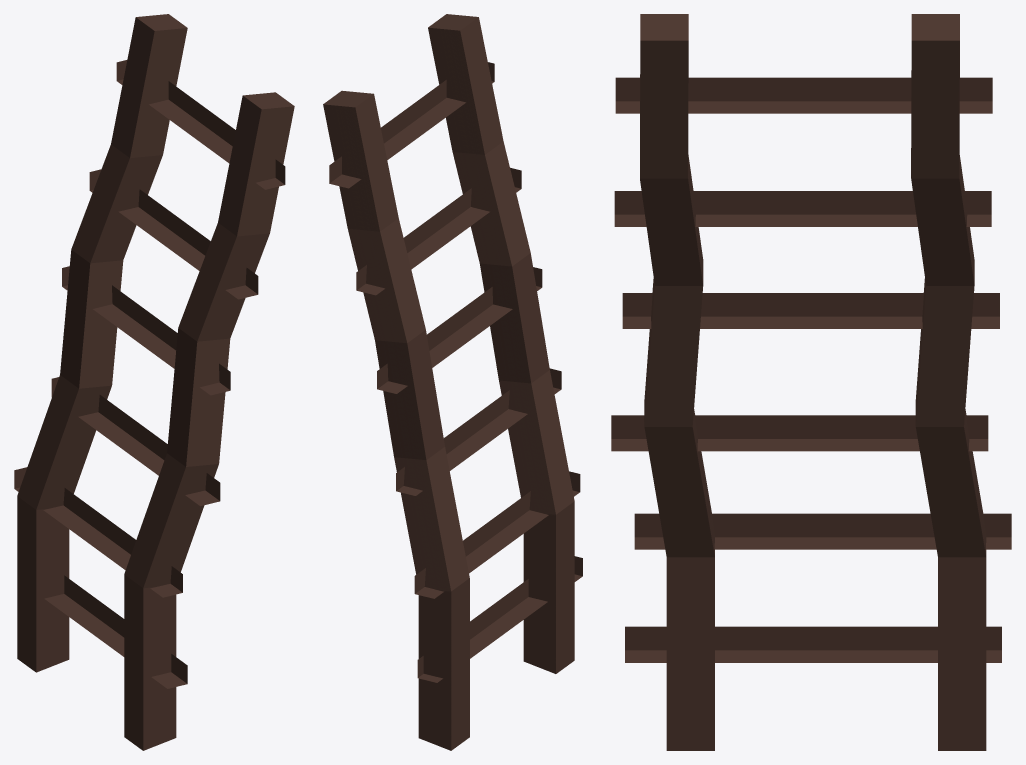
The model's file is Ladder_Onai.glb.
3 views of the same model, side by side, from view 1: azimuth 30°, elevation 25°; view 2: azimuth 150°, elevation 25°; view 3: azimuth 270°, elevation 25° (orthographic). The views are drawn at different scales.
Parts seen in each view (by area): view 1: Cube; view 2: Cube; view 3: Cube.
Part boxes in pixels (<box>): Cube: <box>14,14,294,750</box>; Cube: <box>323,14,582,750</box>; Cube: <box>611,14,1011,750</box>.
Size of the model in its own units: 1.99 by 8.39 by 3.85.
Materials: 1 (1 with a texture image).
